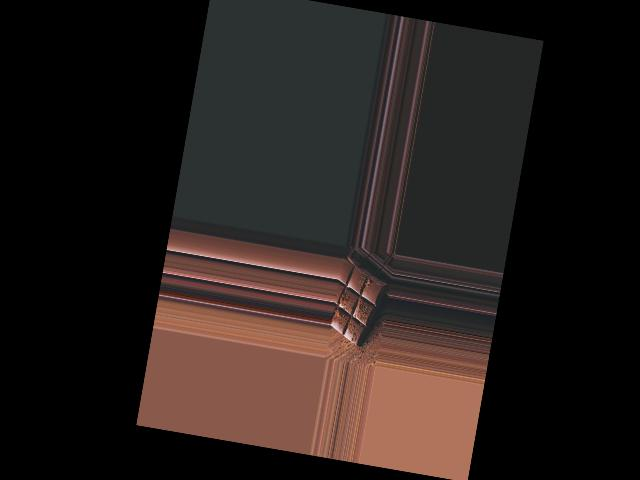chocolate: (328, 258, 389, 353)
